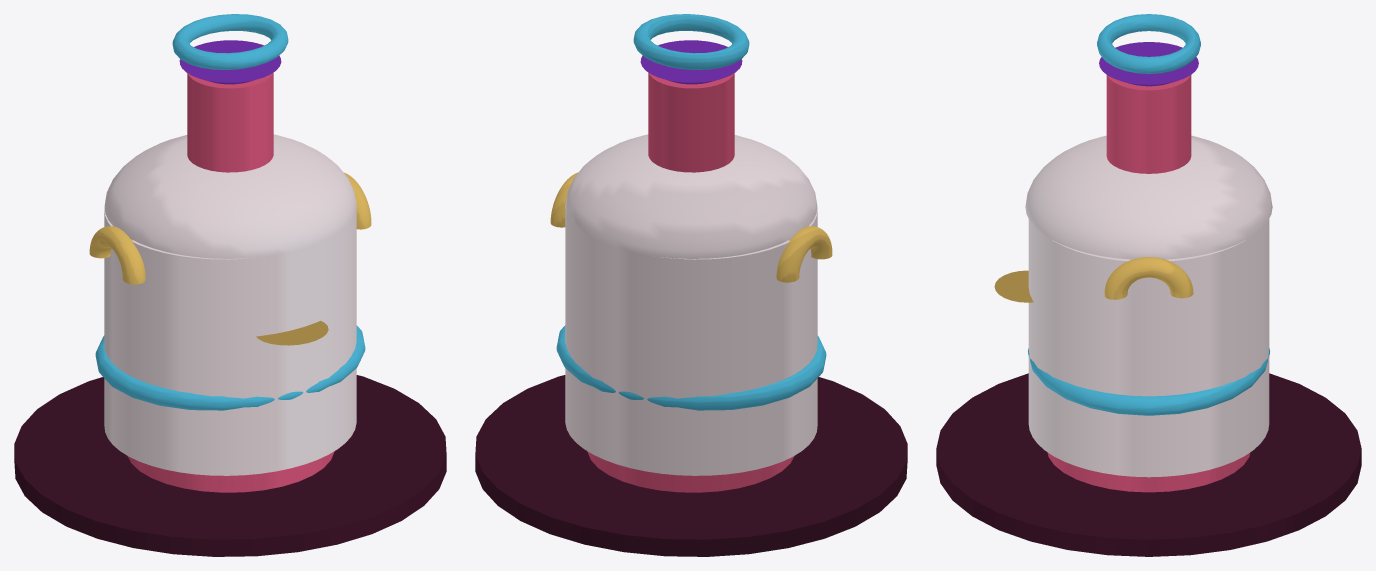
File: 0611_考古图鉴_南宋德化窑青白釉印花六棱执壶.glb
3 views of the same model, side by side, from view 1: azimuth 30°, elevation 25°; view 2: azimuth 150°, elevation 25°; view 3: azimuth 270°, elevation 25° (orthographic).
Parts seen in each view (by area): view 1: card_0611; view 2: card_0611; view 3: card_0611.
Part boxes in pixels (<box>): card_0611: <box>14,14,446,556</box>; card_0611: <box>475,14,907,556</box>; card_0611: <box>936,14,1361,556</box>.
Size of the model in its own units: 0.9129 by 1 by 0.8977.
